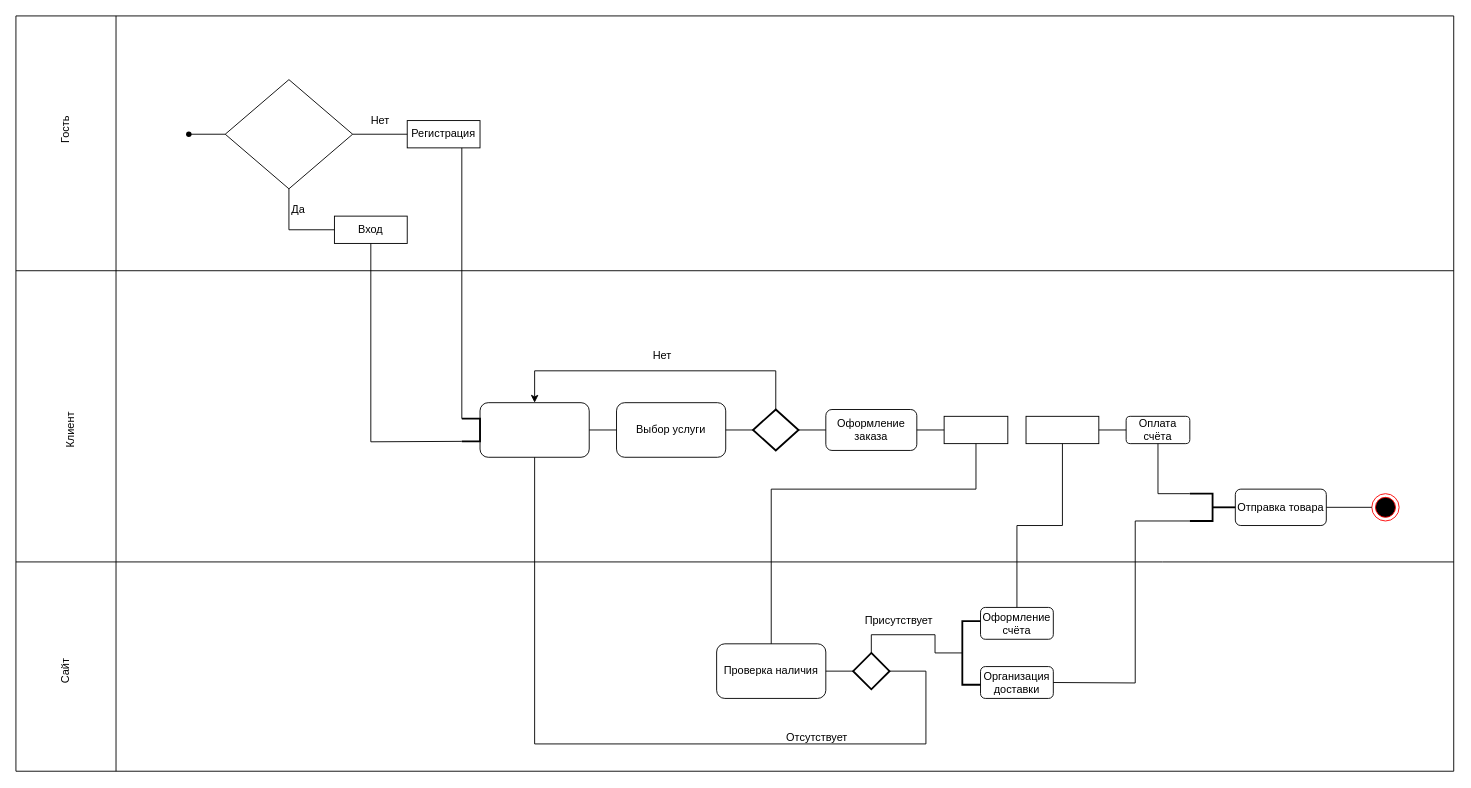
Some shapes in this 1471 by 788 pixel diagram are drawn without their labels. Each missing label, with the box of its shape:
Заказ: (943, 415, 1008, 444)
Пользователь зарегистрирован?: (224, 79, 353, 189)
Просмотр расписания: (479, 402, 589, 457)
Счёт: (1025, 415, 1099, 444)
